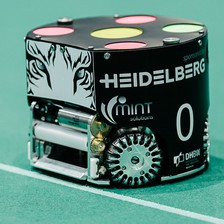robot: (24, 12, 213, 190)
